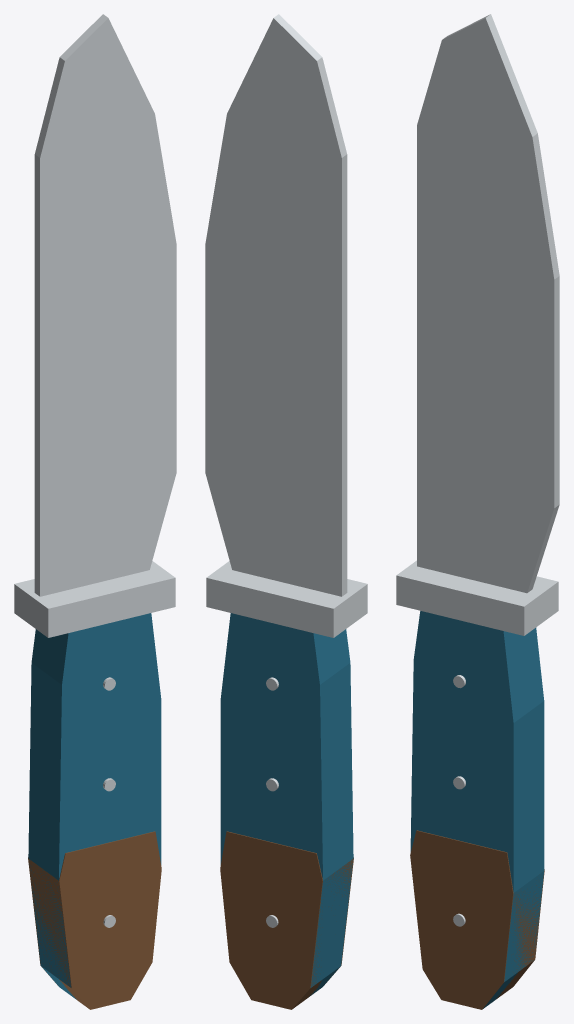
The model's file is illustrative-knife.glb.
3 renders of one model, left to right at view 1: azimuth 30°, elevation 25°; view 2: azimuth 150°, elevation 25°; view 3: azimuth 330°, elevation 25°, orthographic.
Bounding box in the file's own units: 0.046 × 0.3 × 0.019.
